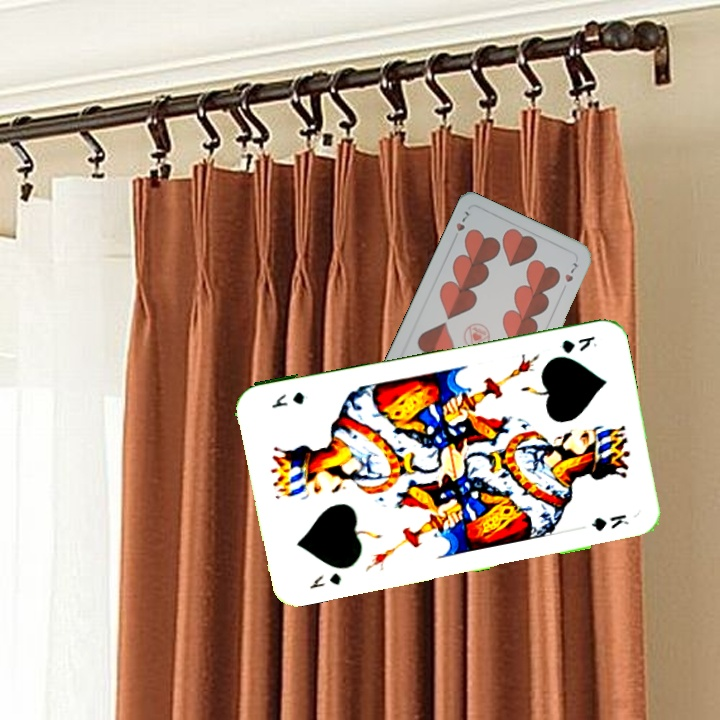GK: (558, 332, 599, 356), (305, 568, 344, 592)
H7: (452, 207, 472, 234)
